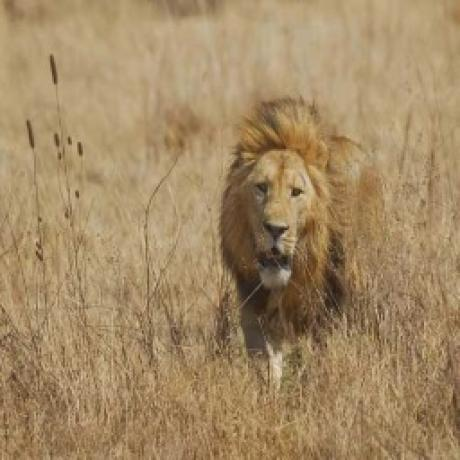Lion: (220, 96, 354, 380)
